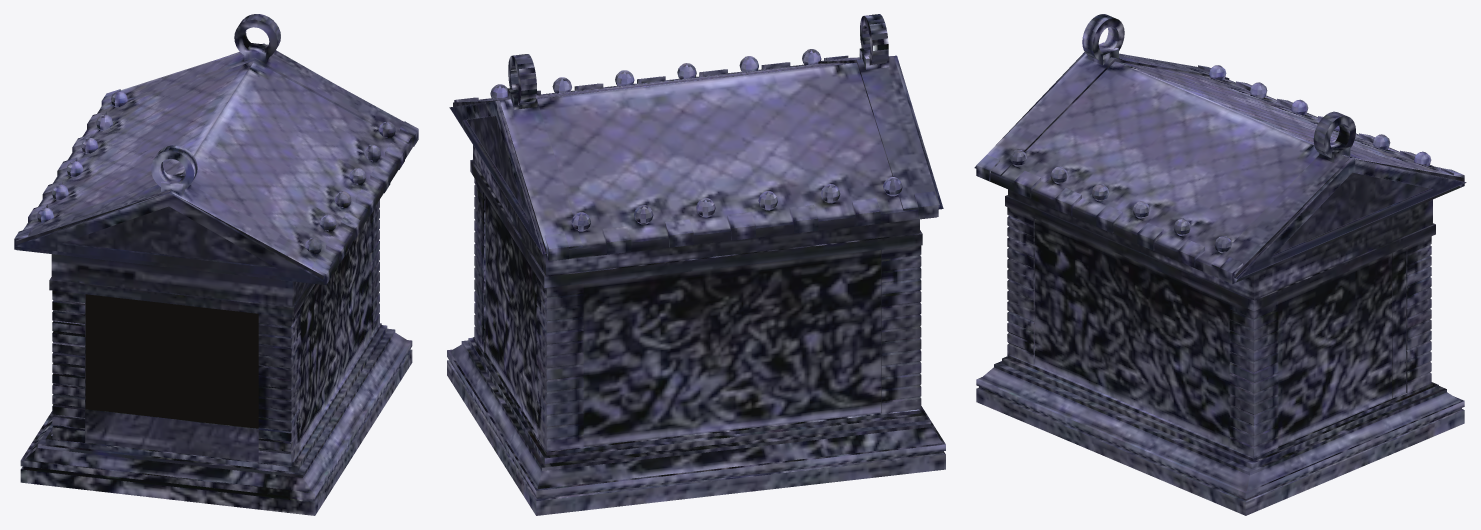
Rendered from crypt_textured.glb.
The picture shows the model from 3 angles, left to right: view 1: azimuth 30°, elevation 25°; view 2: azimuth 150°, elevation 25°; view 3: azimuth 270°, elevation 25°; orthographic projection. The views are drawn at different scales.
Parts seen in each view (by area): view 1: walls, roofs, openings, frames; view 2: walls, roofs, frames; view 3: walls, roofs, frames.
Boxes of the visible parts, x1,y1,x2,y2 form: walls: [20, 14, 412, 515]; roofs: [14, 51, 418, 284]; openings: [85, 294, 258, 428]; frames: [15, 43, 328, 462]; walls: [447, 14, 945, 515]; roofs: [453, 49, 939, 261]; frames: [449, 55, 943, 254]; walls: [976, 14, 1464, 515]; roofs: [976, 53, 1464, 283]; frames: [974, 52, 1466, 279].
Bounding box in the file's own units: 4.36 × 3.38 × 4.36.
2 materials, 1 textured.
